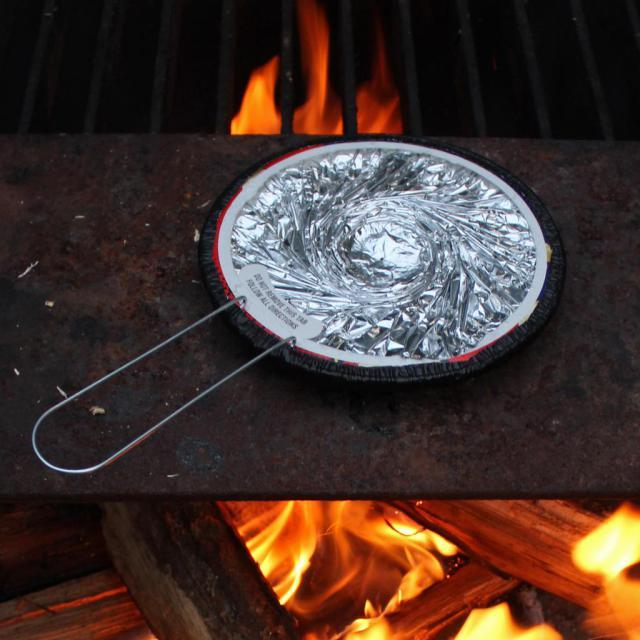Fire: (217, 502, 639, 636), (208, 1, 407, 132)
